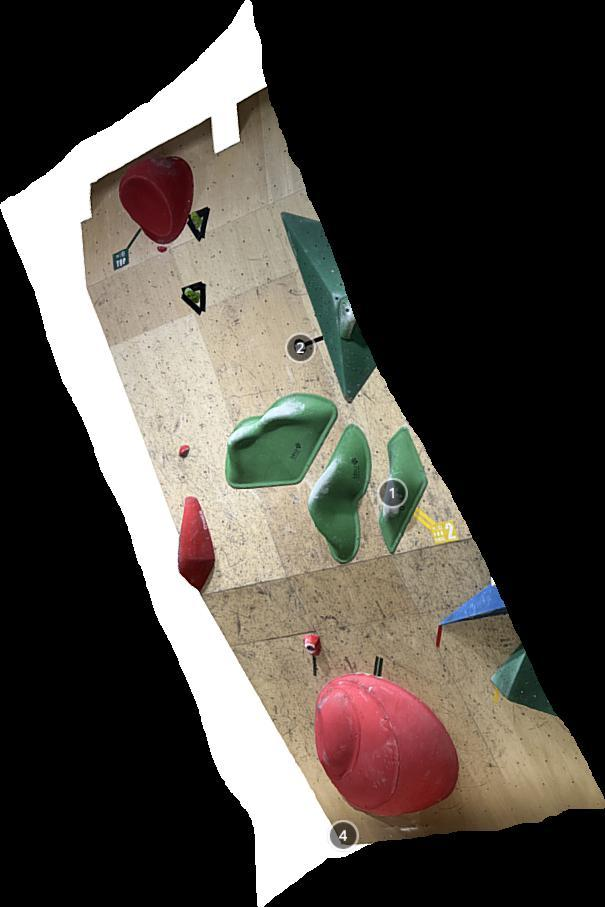hold: (315, 673, 460, 817), (225, 393, 337, 488), (308, 423, 370, 563), (118, 155, 194, 243), (379, 427, 428, 554), (177, 496, 215, 591), (440, 581, 508, 625), (181, 281, 206, 316), (186, 206, 210, 242), (339, 297, 357, 340), (303, 634, 321, 656), (179, 445, 190, 456), (157, 246, 168, 252)
volume: (280, 211, 376, 405), (490, 644, 558, 716)
